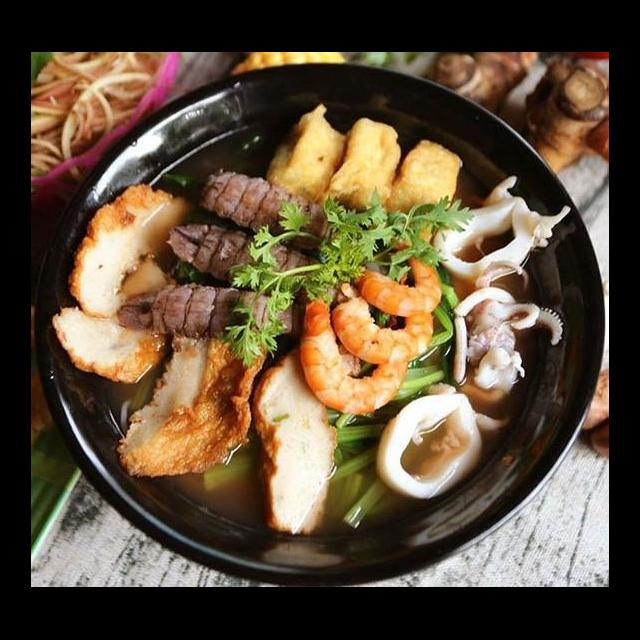dau hu: (260, 100, 353, 214), (314, 114, 405, 218), (378, 133, 466, 230)
muc: (437, 256, 567, 408), (371, 378, 519, 504), (426, 172, 578, 286)
tom: (297, 284, 413, 418), (327, 278, 438, 368), (345, 238, 447, 320)
tom tit: (192, 164, 384, 278), (157, 216, 343, 302), (109, 278, 315, 344)
